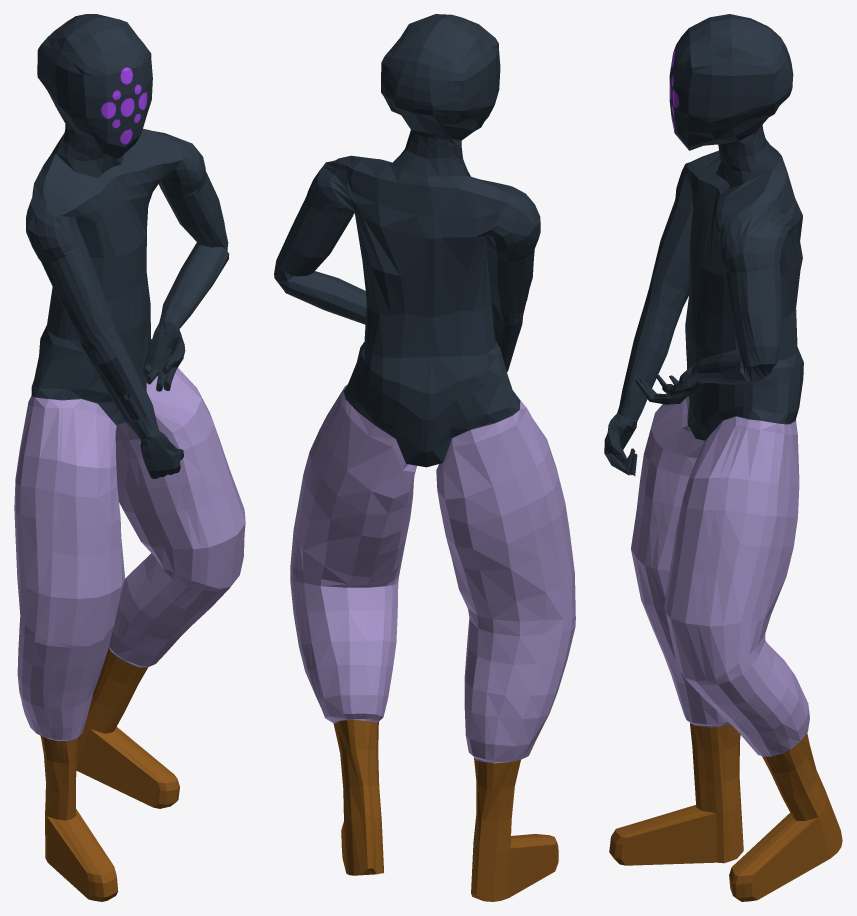
The model's file is Oracle_WR_000024.obj.
3 views of the same model, side by side, from view 1: azimuth 30°, elevation 25°; view 2: azimuth 150°, elevation 25°; view 3: azimuth 270°, elevation 25° (orthographic). The views are drawn at different scales.
Visible parts, largest first — view 1: Cube; view 2: Cube; view 3: Cube.
Part boxes in pixels (x1,y1,x2,y2): Cube: [14, 14, 245, 901]; Cube: [274, 14, 575, 901]; Cube: [604, 14, 842, 901].
Size of the model in its own units: 1.18 by 3.92 by 0.9772.
